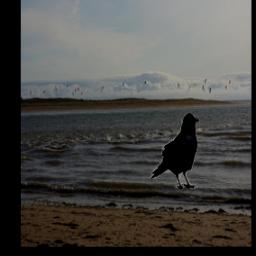Crow: (150, 111, 201, 189)
